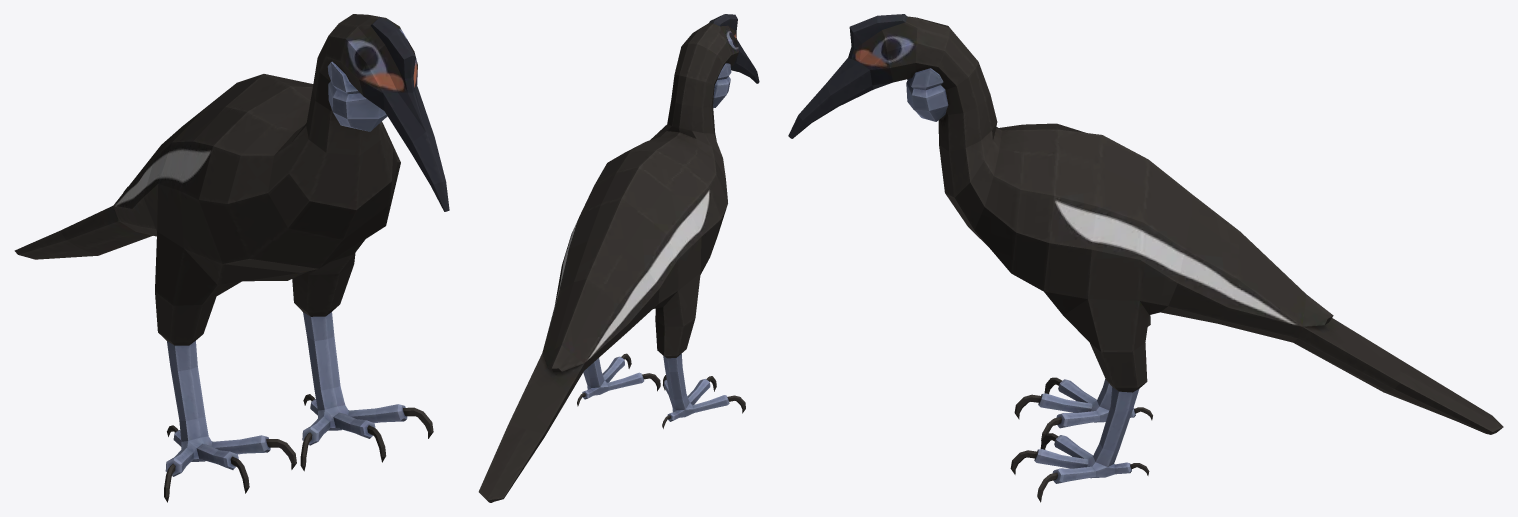
Rendered from hornbill.glb.
3 views of the same model, side by side, from view 1: azimuth 30°, elevation 25°; view 2: azimuth 150°, elevation 25°; view 3: azimuth 270°, elevation 25° (orthographic). The views are drawn at different scales.
Parts seen in each view (by area): view 1: AbyssinianGroundHornbill_mesh; view 2: AbyssinianGroundHornbill_mesh; view 3: AbyssinianGroundHornbill_mesh.
Part boxes in pixels (x1=…): AbyssinianGroundHornbill_mesh: x1=14, y1=14, x2=449, y2=502; AbyssinianGroundHornbill_mesh: x1=478, y1=14, x2=759, y2=502; AbyssinianGroundHornbill_mesh: x1=788, y1=14, x2=1503, y2=502.
Bounding box in the file's own units: 4.92 × 9.18 × 13.55.
Materials: 1 (1 with a texture image).
